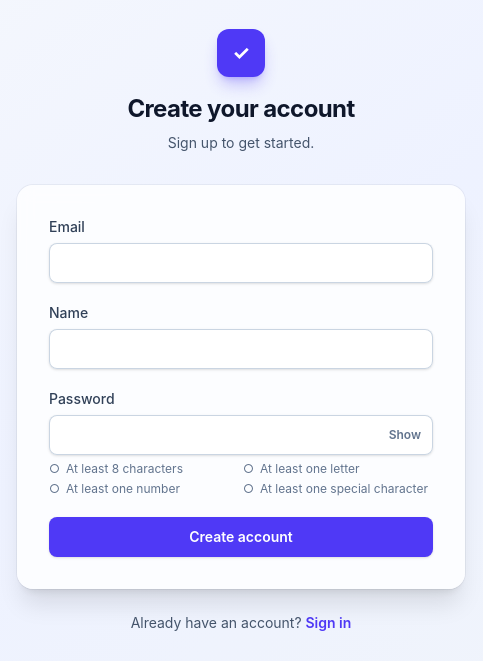
Scenario: Sign up page › marks the email field when the address is already registered
The width and height of the screenshot is (483, 661).
Type "jane@example.com" into the field labelled "Email". click: [241, 263]
box: [49,243,433,283]
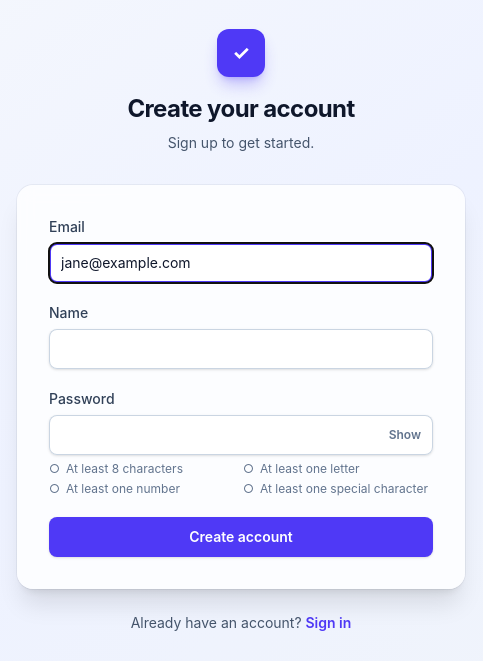
Type "Jane Doe" into the field labelled "Name". click: [241, 349]
box: [49,329,433,369]
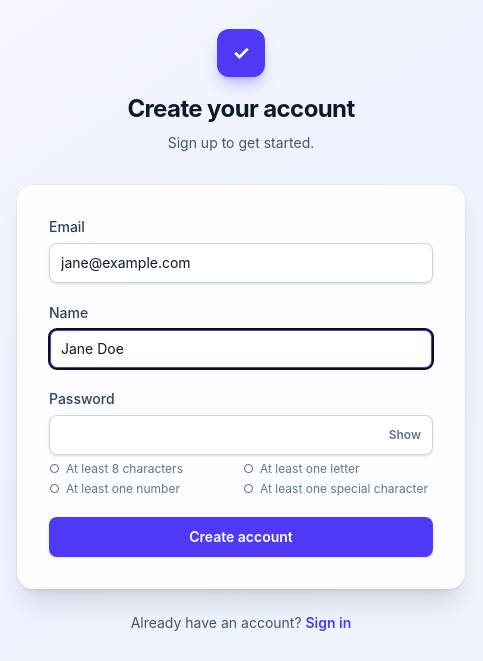
Type "Sup3r$ecret" into the password field labelled "Password". click: [241, 435]
box: [49,415,433,455]
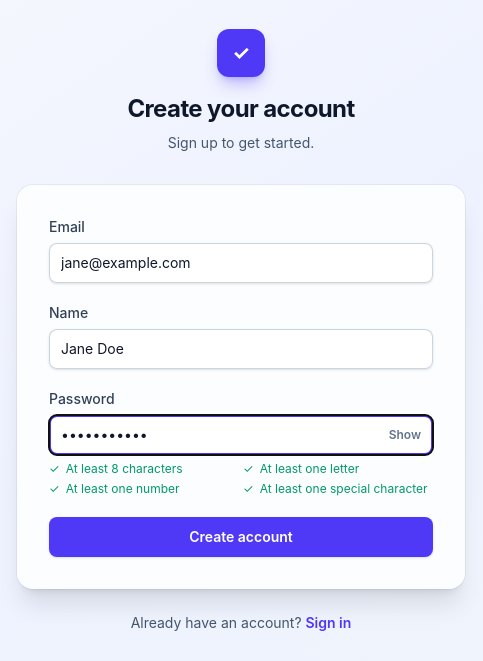
Click the button "Create account". click: [241, 537]
box: [49,517,433,557]
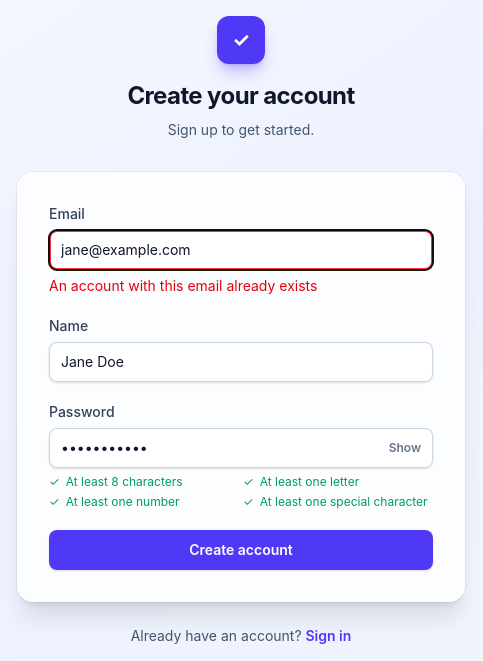
Expected: the text "An account with this email already exists" is shown, [49,277,317,294]
